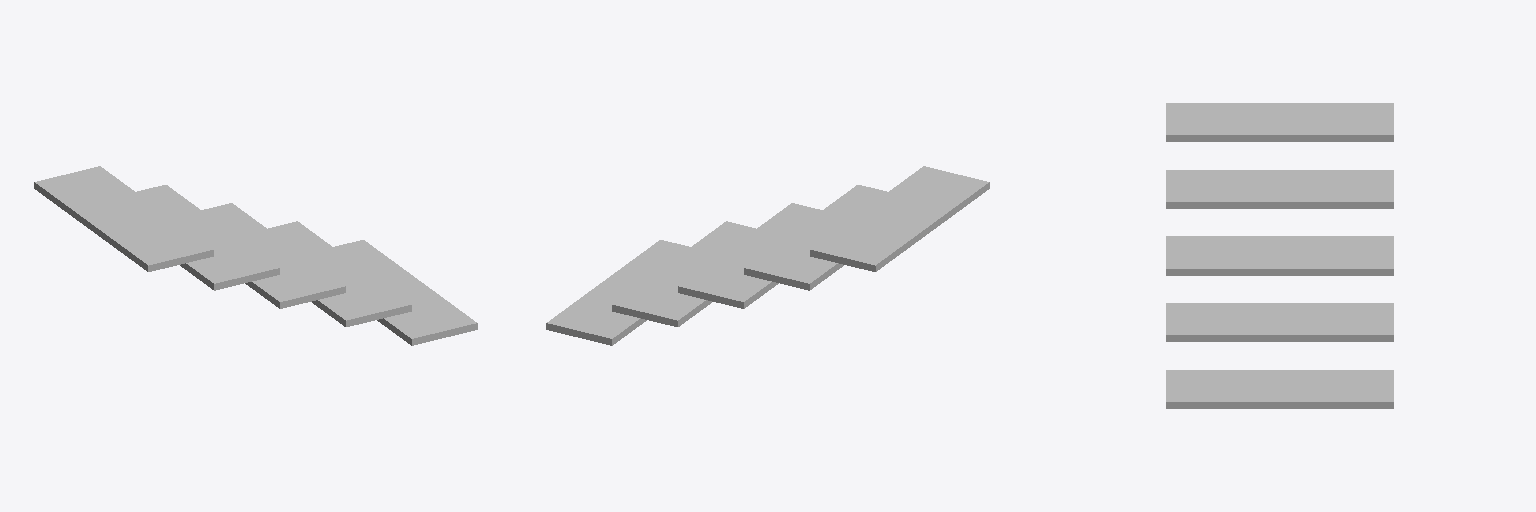
Rendered from stairs_v001.obj.
The picture shows the model from 3 angles: view 1: azimuth 30°, elevation 25°; view 2: azimuth 150°, elevation 25°; view 3: azimuth 270°, elevation 25°; orthographic projection.
Visible parts, largest first — view 1: stairs_Cube_Cube.001; view 2: stairs_Cube_Cube.001; view 3: stairs_Cube_Cube.001.
Part boxes in pixels (bbox=[...]): stairs_Cube_Cube.001: bbox=[34, 166, 477, 345]; stairs_Cube_Cube.001: bbox=[546, 166, 989, 345]; stairs_Cube_Cube.001: bbox=[1166, 103, 1393, 408].
Bounding box in the file's own units: 10 × 4.2 × 6.